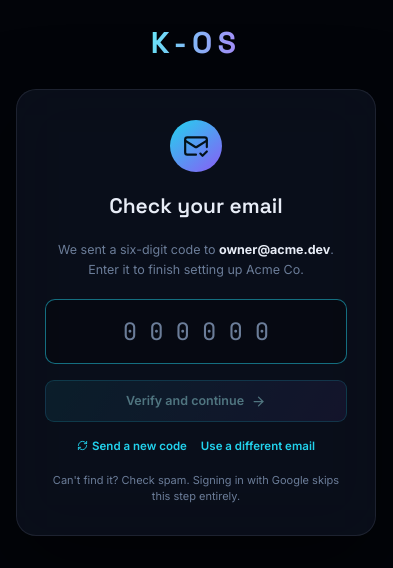
the verification gate › offers a new code and then holds off, so resend can't be hammered
The image size is (393, 568).
Click the button "Send a new code". click: (132, 447)
box: [77,438,187,456]
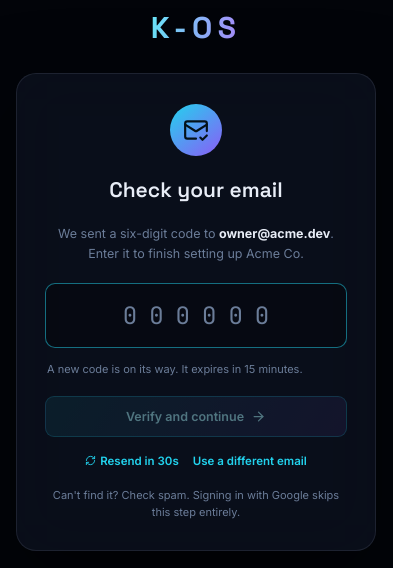
Result: the button "Resend in 30s" is disabled at [85,453,179,471]
